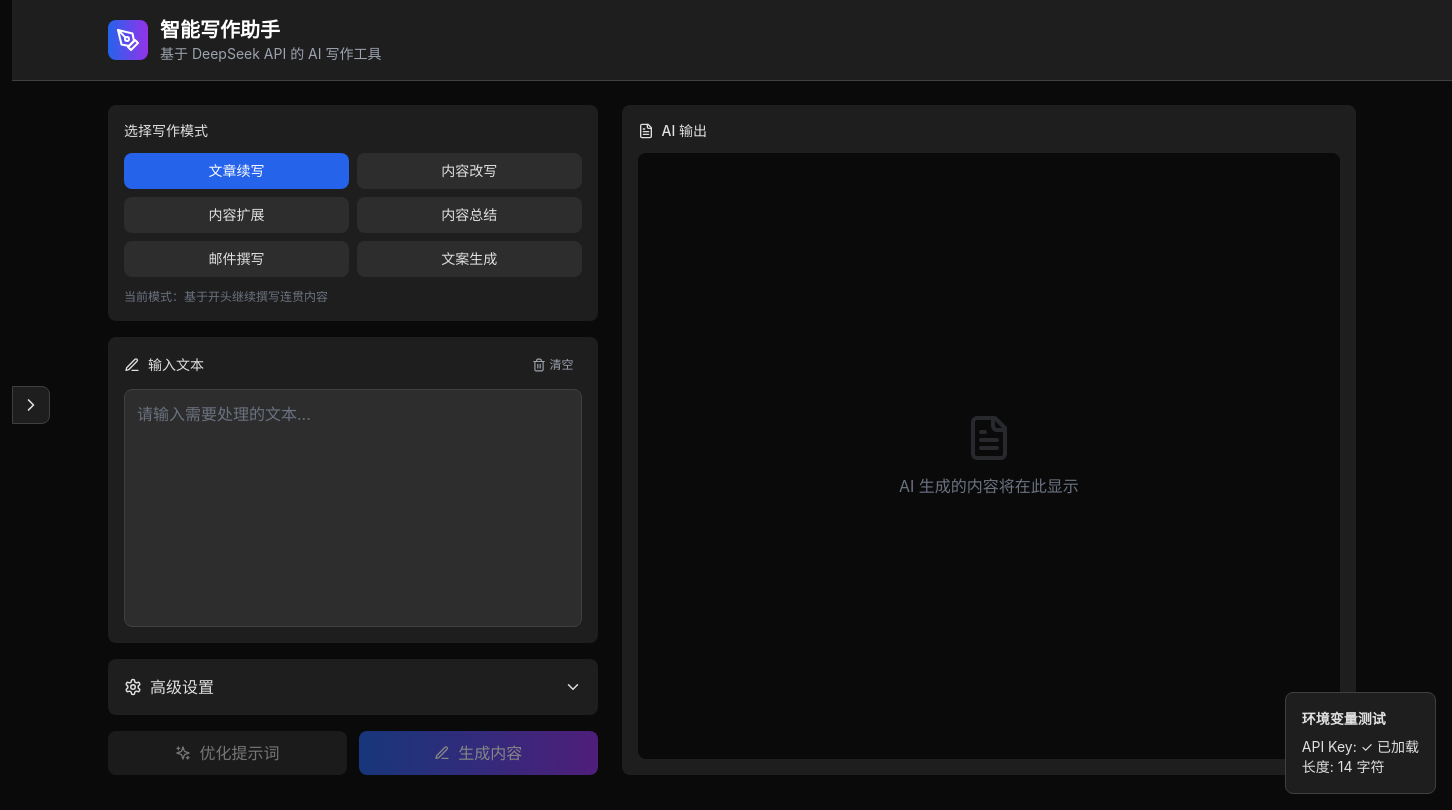
Test case: App Integration Test › should clear input when button clicked
Step 1. Type "测试输入文本" into the text box → point(353, 508), box [124,389,582,627]
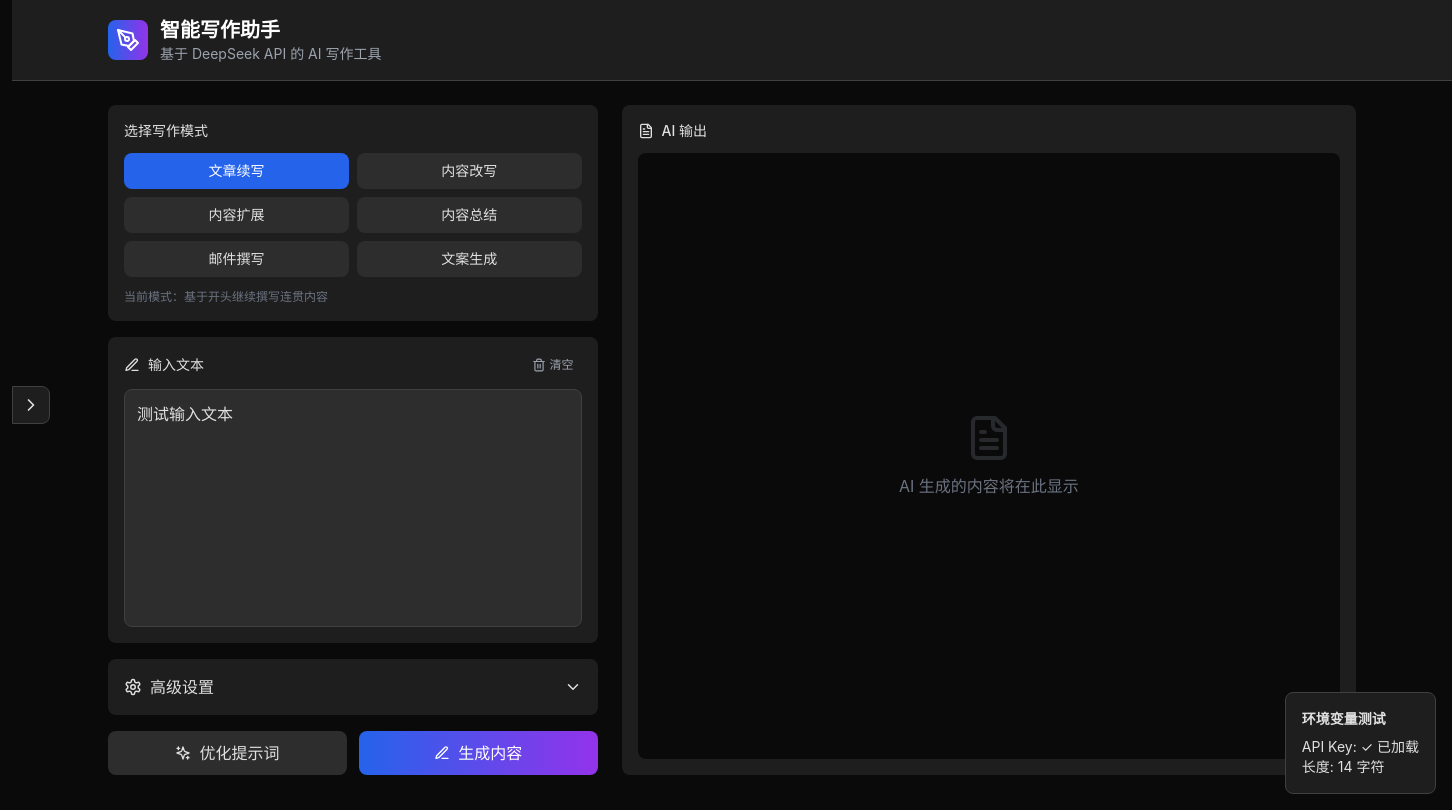
Step 2. Click the button "清空" → point(553, 365), box [524,353,582,377]
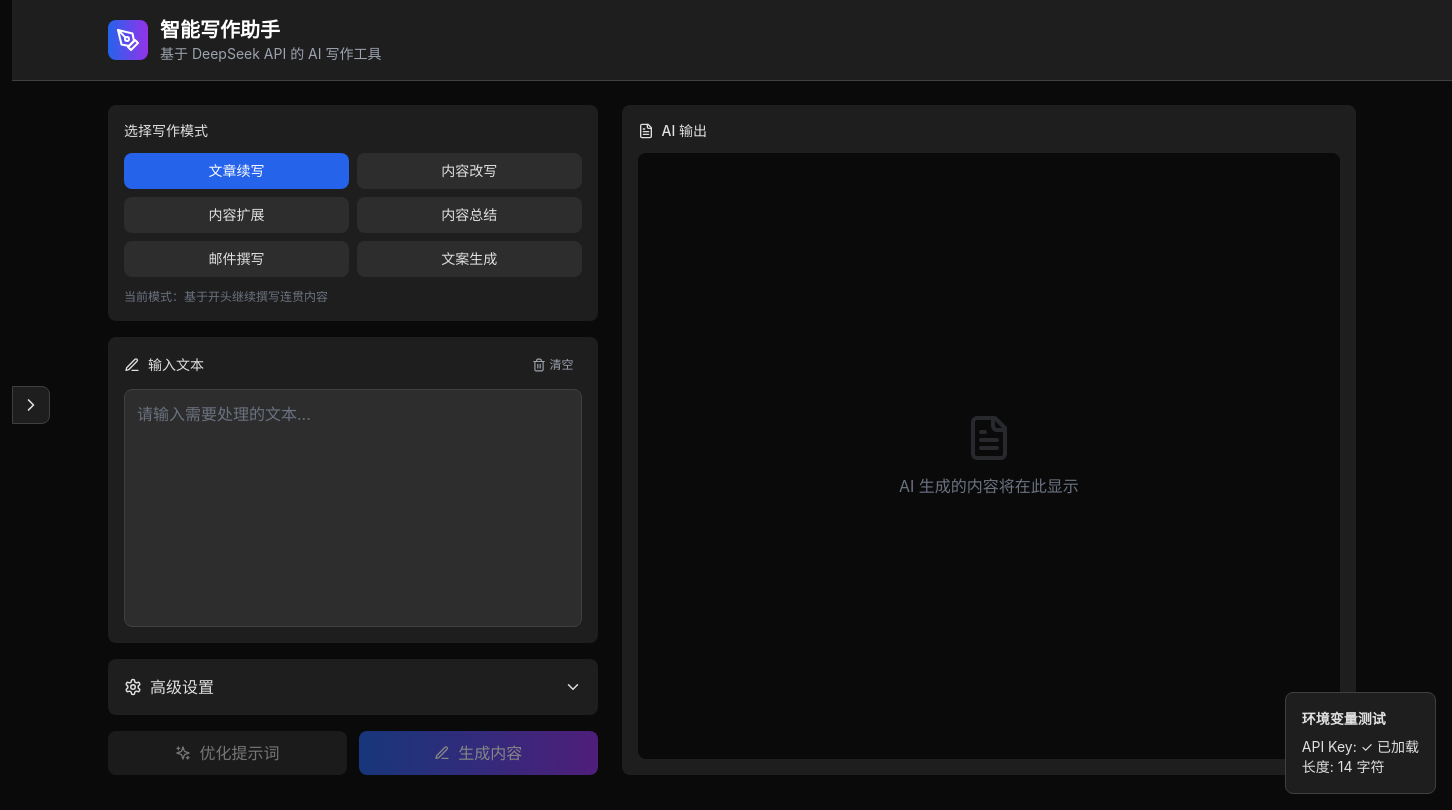
Now the text box is empty, box [124,389,582,627]
